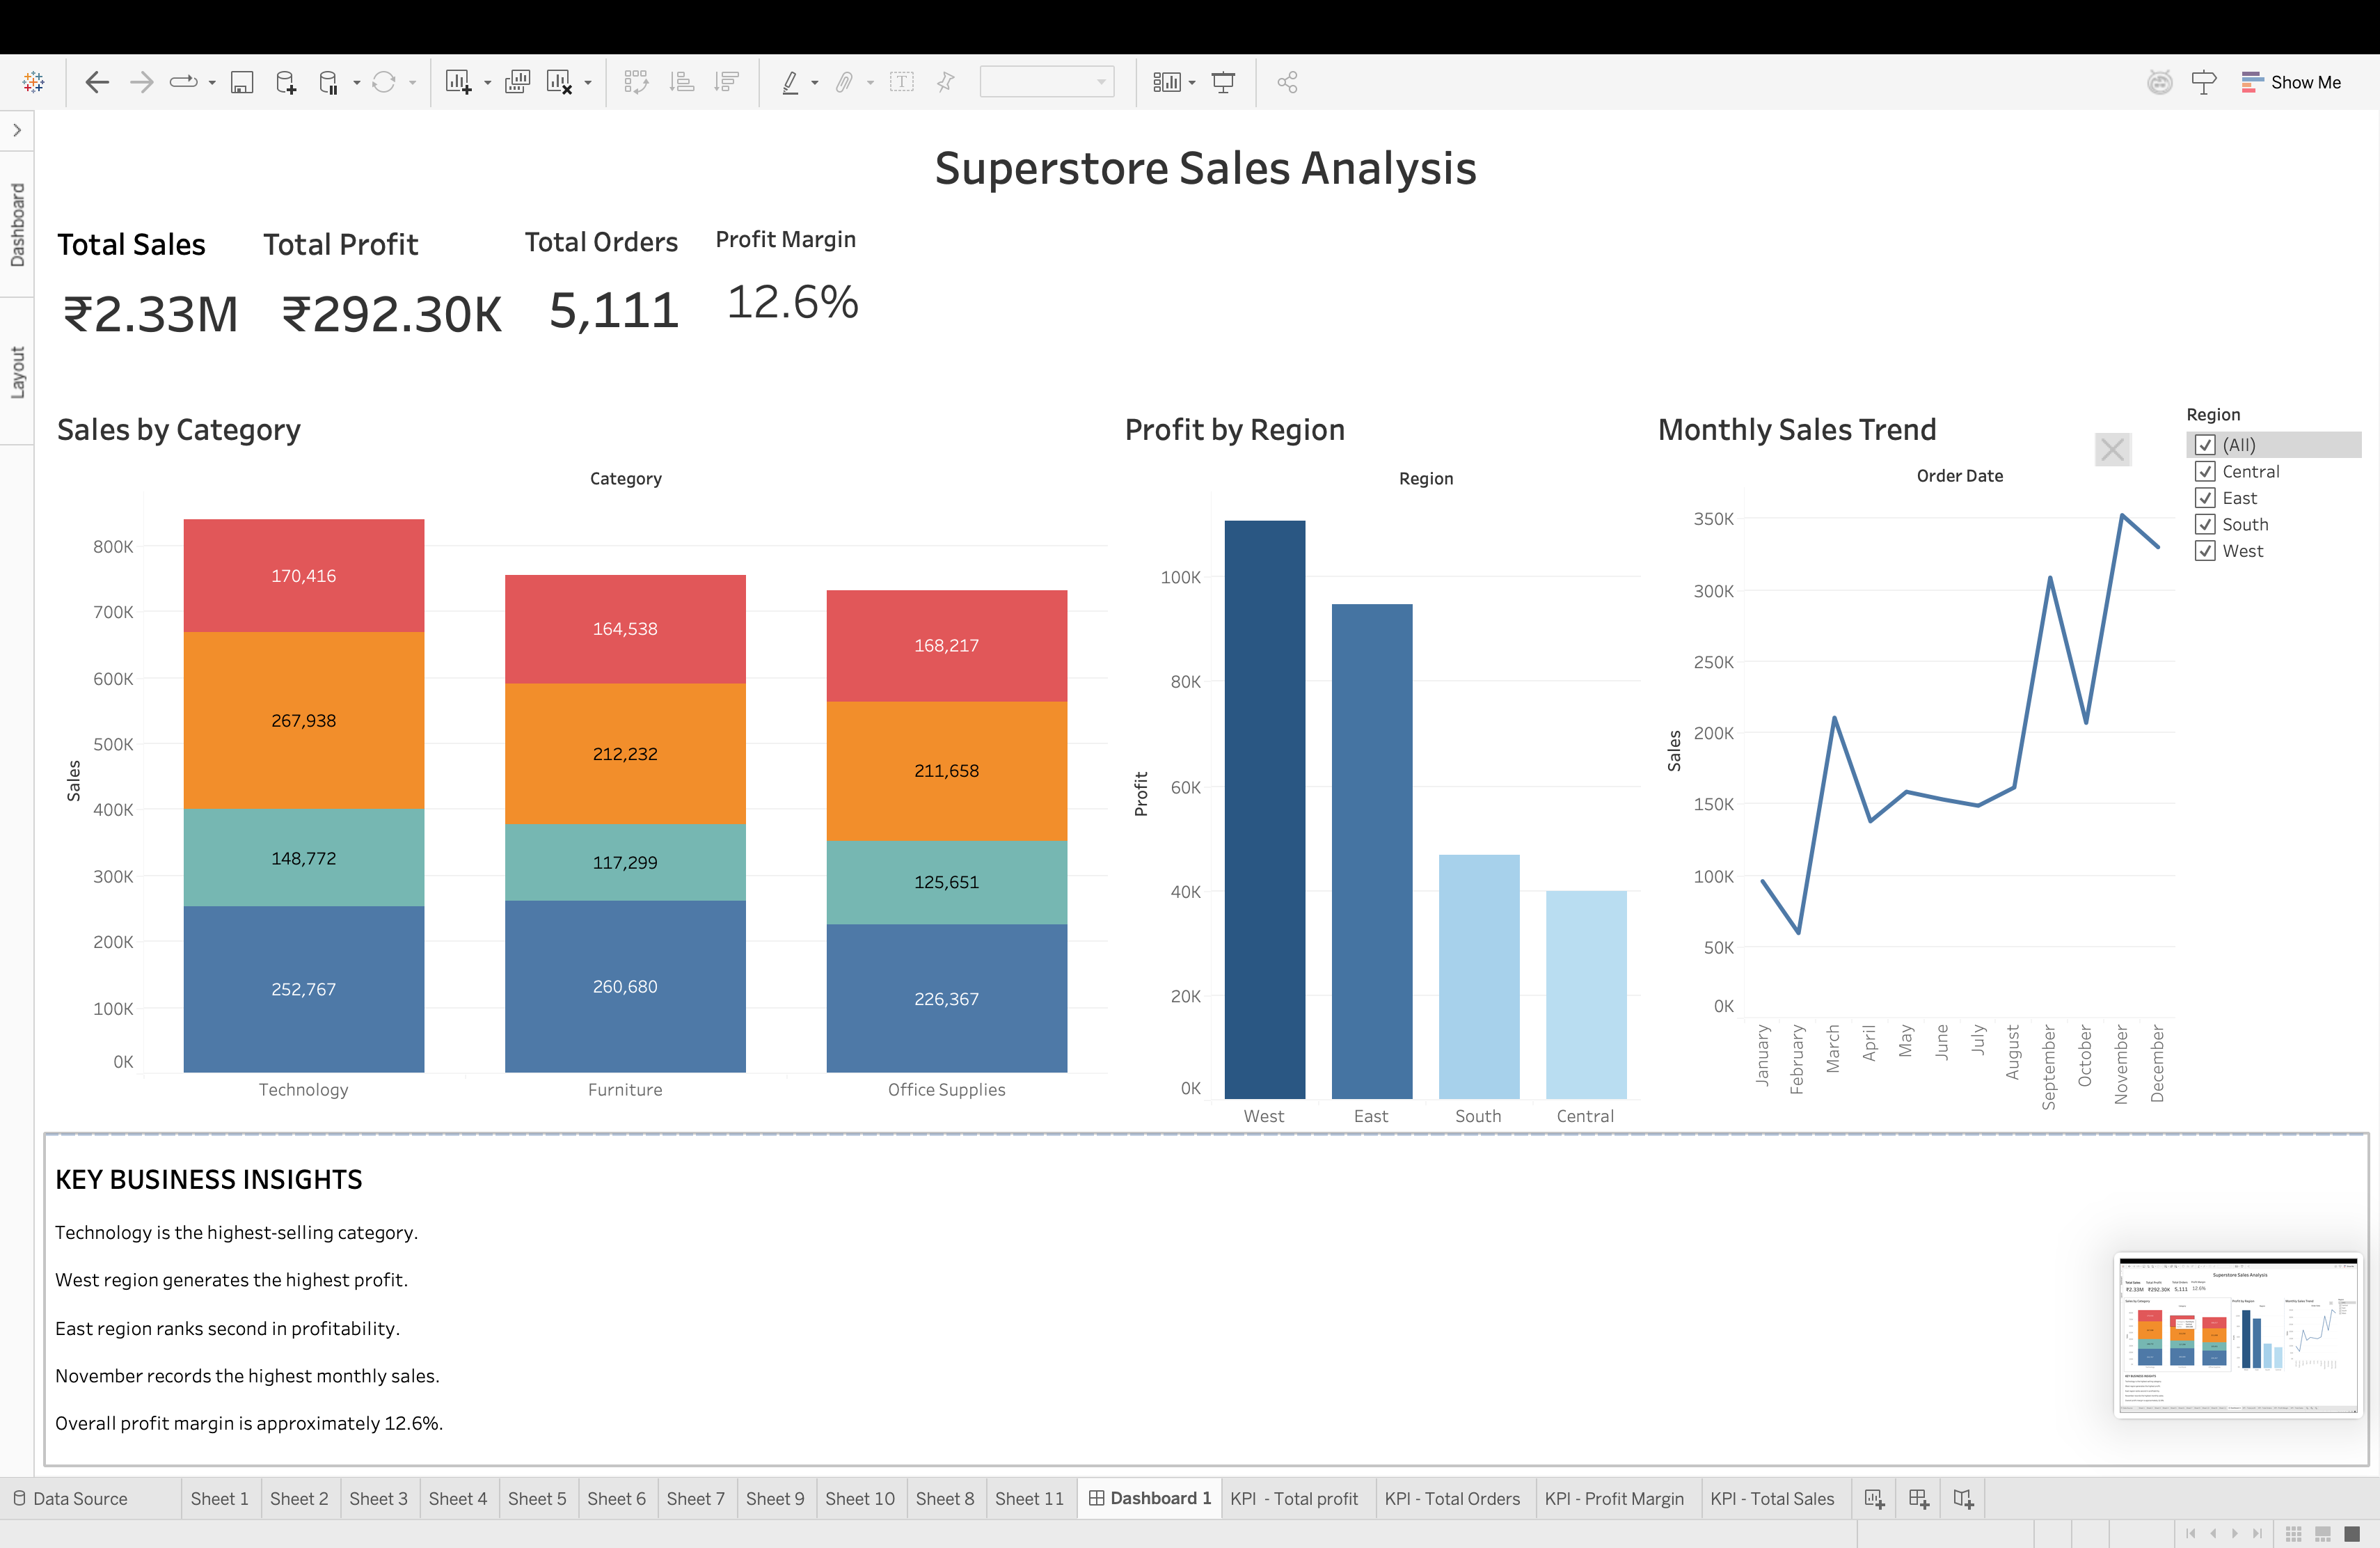

The dashboard page shown, as its layout file describes it:
{"tool":"tableau","page":{"name":"Dashboard 1","canvas":[1000,1000],"units":"permille","ordinal":0},"visuals":[{"type":"title","box":[5.3,8.2,989.3,66.2]},{"type":"worksheet","title":"KPI - Total Sales","mark":"Automatic","box":[5.3,74.4,98.7,135.6]},{"type":"worksheet","title":"KPI  - Total profit","mark":"Automatic","box":[104.1,74.4,125.4,135.6]},{"type":"worksheet","title":"KPI - Total Orders","mark":"Automatic","box":[229.5,74.4,91.4,135.6]},{"type":"worksheet","title":"KPI - Profit Margin","mark":"Automatic","box":[320.9,74.4,108.1,135.6]},{"type":"worksheet","title":"Sheet 8","mark":"Automatic","rows":["Sales"],"cols":["Category"],"box":[5.3,210,449.9,540.5]},{"type":"worksheet","title":"Sheet 9","mark":"Automatic","rows":["Profit"],"cols":["Region"],"box":[455.3,210,225,540.5]},{"type":"worksheet","title":"Sheet 10","mark":"Automatic","rows":["Sales"],"cols":["Order Date"],"box":[680.3,210,225,540.5]},{"type":"filter","title":"Sheet 8","param":"[Sample - Superstore].[none:Region:nk]","box":[905.3,210,89.4,129.4]},{"type":"dashboard-object","box":[878.6,236.5,16,24.5]},{"type":"text","box":[5.3,750.5,989.3,241.3]}]}

Visuals, with their boxes on the dashboard's canvas, which has no fixed pixel size, in thousandths of its width and height (x1, y1, x2, y2). These are canvas units, not pixel positions in the 2380x1548 screenshot, which may show the page scaled, cropped or inside an application window:
title: bbox=[5, 8, 995, 74]
"KPI - Total Sales" worksheet: bbox=[5, 74, 104, 210]
"KPI  - Total profit" worksheet: bbox=[104, 74, 230, 210]
"KPI - Total Orders" worksheet: bbox=[230, 74, 321, 210]
"KPI - Profit Margin" worksheet: bbox=[321, 74, 429, 210]
"Sheet 8" worksheet: bbox=[5, 210, 455, 750]
"Sheet 9" worksheet: bbox=[455, 210, 680, 750]
"Sheet 10" worksheet: bbox=[680, 210, 905, 750]
"Sheet 8" filter: bbox=[905, 210, 995, 339]
dashboard-object: bbox=[879, 236, 895, 261]
text: bbox=[5, 750, 995, 992]
